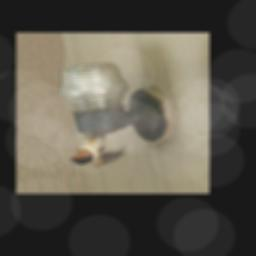Swallow: (64, 129, 130, 171)
